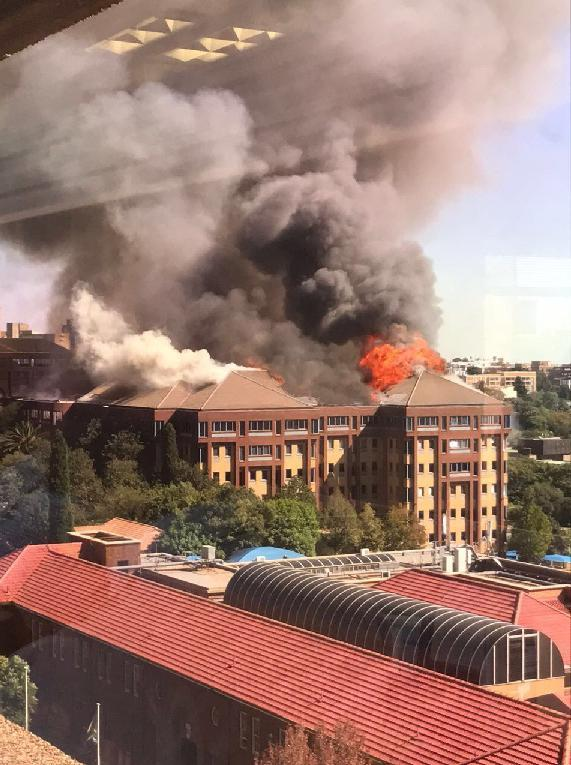Fire: (352, 332, 458, 406)
